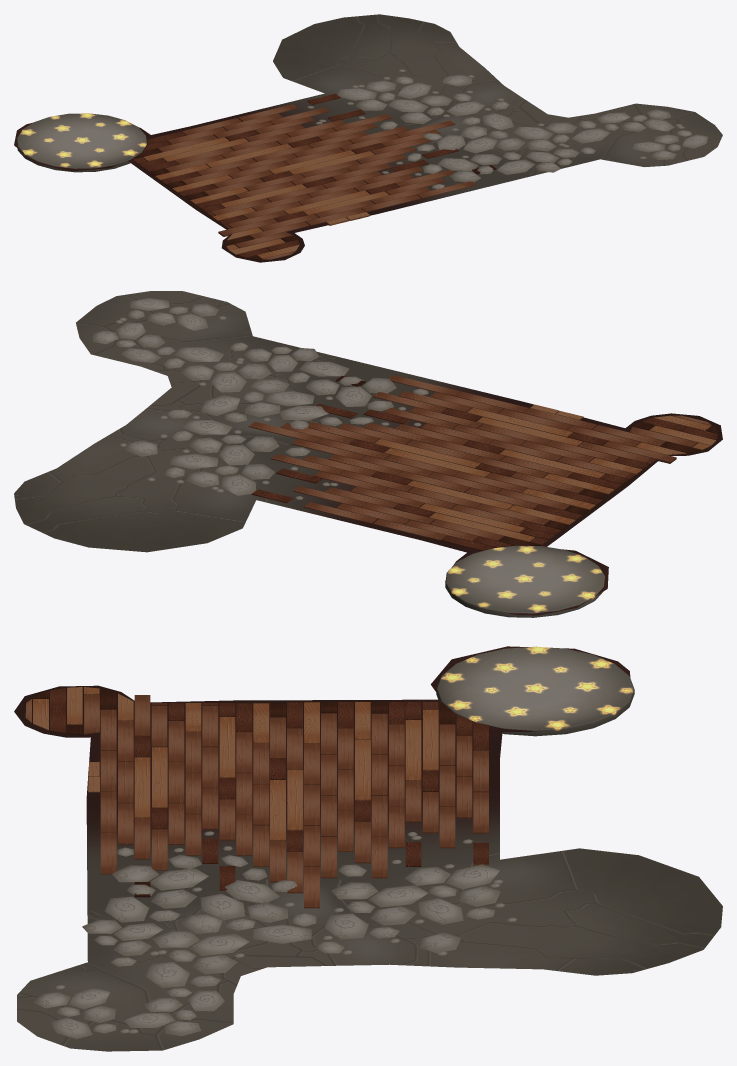
The model's file is PVB export winkel vloer.fbx.
The picture shows the model from 3 angles, top to bottom: view 1: azimuth 30°, elevation 25°; view 2: azimuth 150°, elevation 25°; view 3: azimuth 270°, elevation 25°; orthographic projection. The views are drawn at different scales.
Visible parts, largest first — view 1: vloer_planken, ondergrond_winkel, sterren_vloer; view 2: vloer_planken, ondergrond_winkel, sterren_vloer, pSphere80, pSphere91, pSphere43, pSphere84, pSphere89, pSphere82, pSphere78, pSphere83, pSphere92 (+2 smaller); view 3: ondergrond_winkel, vloer_planken, sterren_vloer, pSphere83, pSphere90, pSphere81, pSphere78, pSphere92, pSphere91, pSphere43, pSphere89, pSphere84 (+10 smaller).
Boxes of the visible parts, left/top/right/bottom form: vloer_planken: left=132, top=93, right=496, bottom=259; ondergrond_winkel: left=14, top=14, right=722, bottom=262; sterren_vloer: left=16, top=113, right=146, bottom=172; vloer_planken: left=248, top=375, right=718, bottom=550; ondergrond_winkel: left=14, top=291, right=722, bottom=615; sterren_vloer: left=445, top=545, right=605, bottom=617; pSphere80: left=299, top=361, right=349, bottom=376; pSphere91: left=170, top=453, right=218, bottom=469; pSphere43: left=266, top=390, right=314, bottom=406; pSphere84: left=174, top=347, right=224, bottom=361; pSphere89: left=182, top=420, right=232, bottom=434; pSphere82: left=279, top=405, right=328, bottom=420; pSphere78: left=210, top=372, right=246, bottom=392; pSphere83: left=201, top=395, right=240, bottom=415; pSphere92: left=221, top=474, right=256, bottom=495; ondergrond_winkel: left=14, top=646, right=722, bottom=1051; vloer_planken: left=25, top=687, right=488, bottom=908; sterren_vloer: left=436, top=646, right=634, bottom=736; pSphere83: left=253, top=924, right=311, bottom=943; pSphere90: left=368, top=885, right=427, bottom=907; pSphere81: left=150, top=868, right=208, bottom=890; pSphere78: left=189, top=933, right=249, bottom=955; pSphere92: left=445, top=864, right=499, bottom=889; pSphere91: left=417, top=898, right=463, bottom=924; pSphere43: left=200, top=893, right=244, bottom=919; pSphere89: left=324, top=913, right=368, bottom=939; pSphere84: left=145, top=962, right=189, bottom=987.
Bounding box in the file's own units: 10 × 0.0947 × 7.4.
